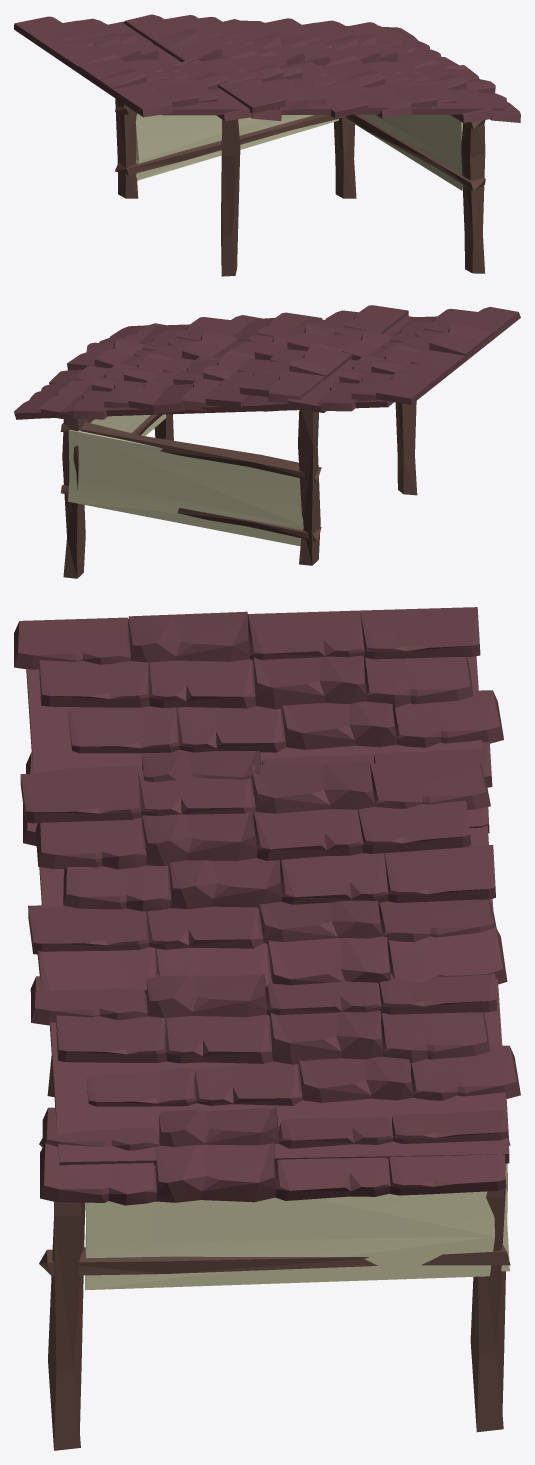
Rendered from ShedRight.fbx.
3 renders of one model, top to bottom at view 1: azimuth 30°, elevation 25°; view 2: azimuth 150°, elevation 25°; view 3: azimuth 270°, elevation 25°, orthographic. The views are drawn at different scales.
Parts seen in each view (by area): view 1: ShedRight_Merged; view 2: ShedRight_Merged; view 3: ShedRight_Merged.
Boxes of the visible parts, <box> form: ShedRight_Merged: <box>14,14,520,276</box>; ShedRight_Merged: <box>14,305,520,578</box>; ShedRight_Merged: <box>14,607,520,1450</box>.
Size of the model in its own units: 744 by 463 by 419.
